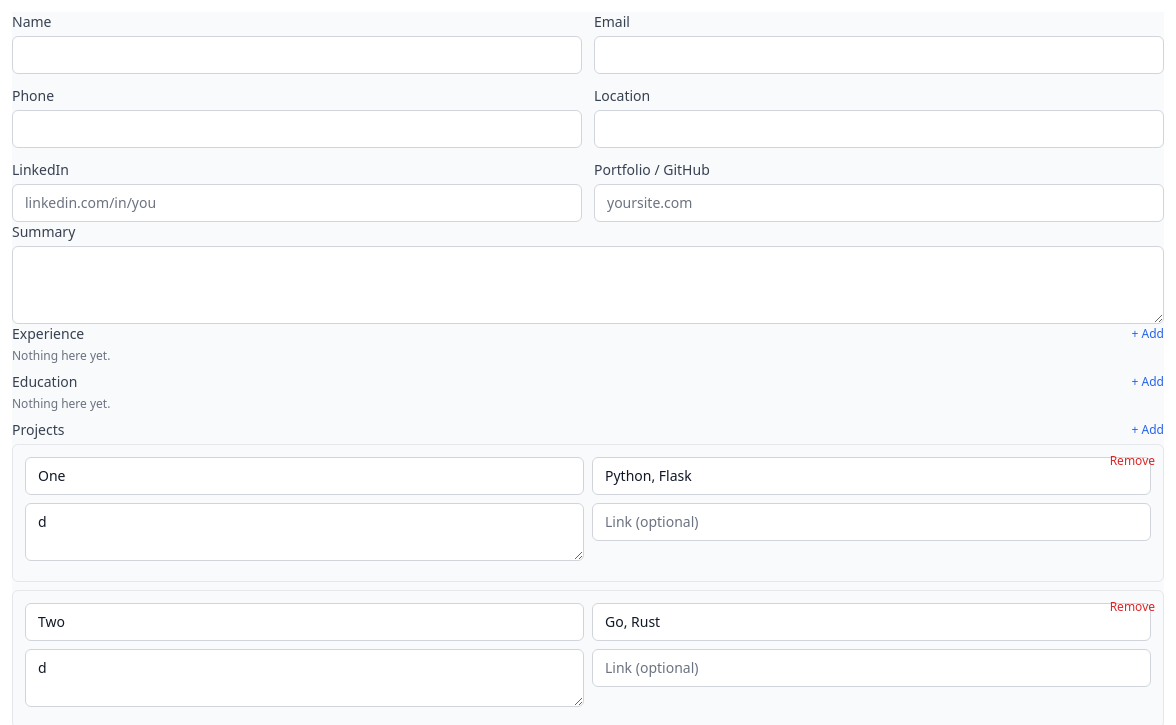
CsvInput inside the form — removing a row must not leave a stale list behind › after removing project 0 the technologies box shows the NEXT project's technologies
The image size is (1176, 725).
What coordinates should you click on to do the following:
click the 1st button "Remove"
I would click on:
 (1132, 461)
Its box is [1110, 453, 1155, 469].
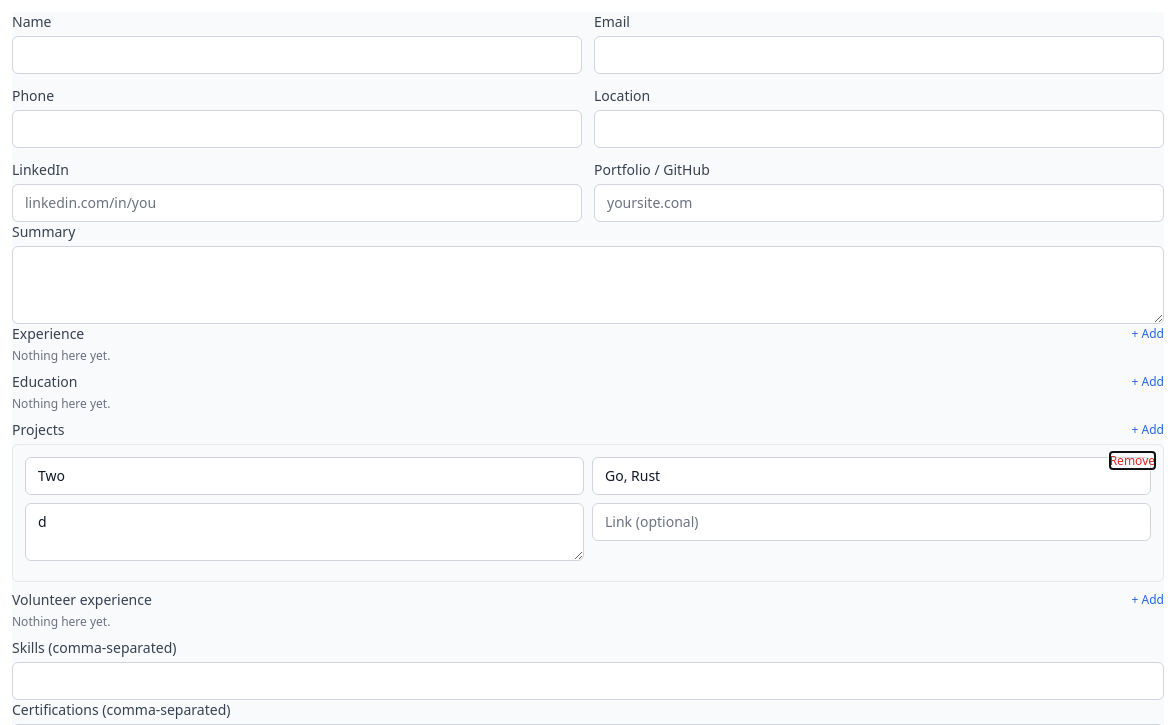
expect the field with placeholder "Technologies (comma-separated)" holds "Go, Rust": met, box [592, 457, 1151, 495]
